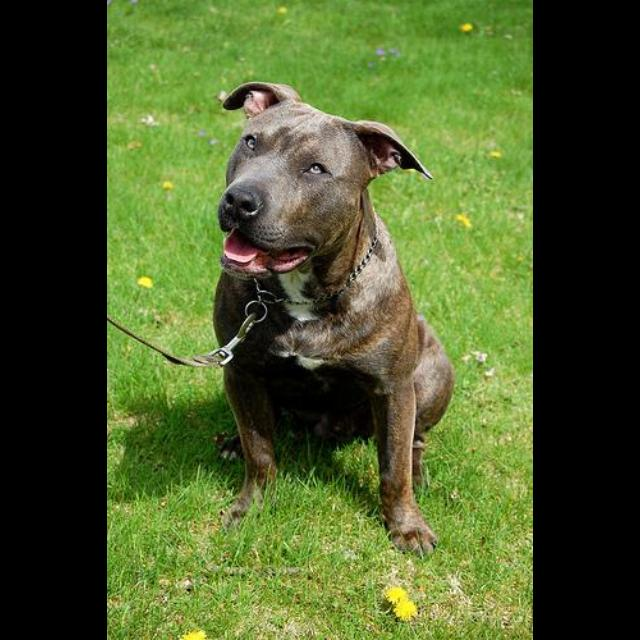amstaff: (212, 80, 456, 560)
